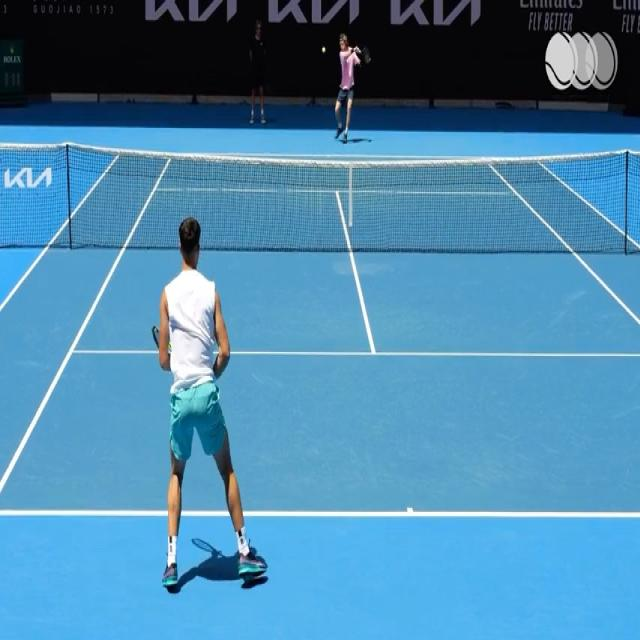ready-position: (151, 213, 267, 593)
